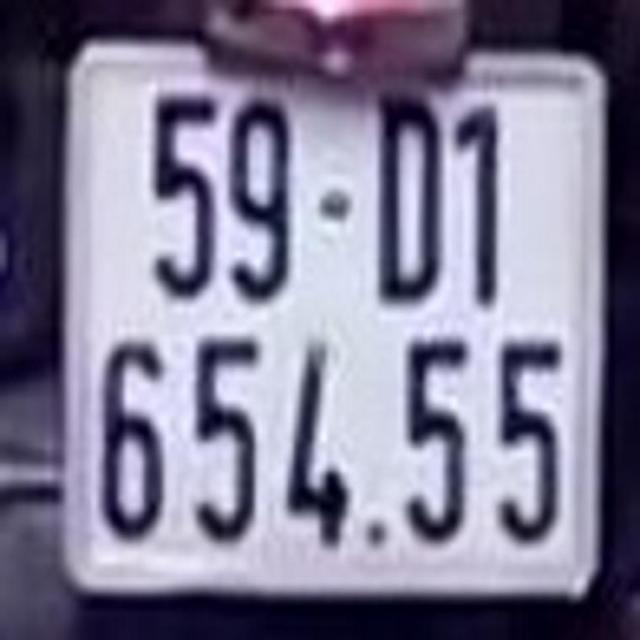1: (455, 105, 504, 305)
4: (291, 349, 349, 546)
5: (192, 338, 262, 553), (403, 342, 468, 540), (154, 94, 216, 300), (499, 336, 559, 541)
6: (99, 342, 167, 540)
9: (226, 100, 290, 300)
D: (377, 96, 439, 297)
